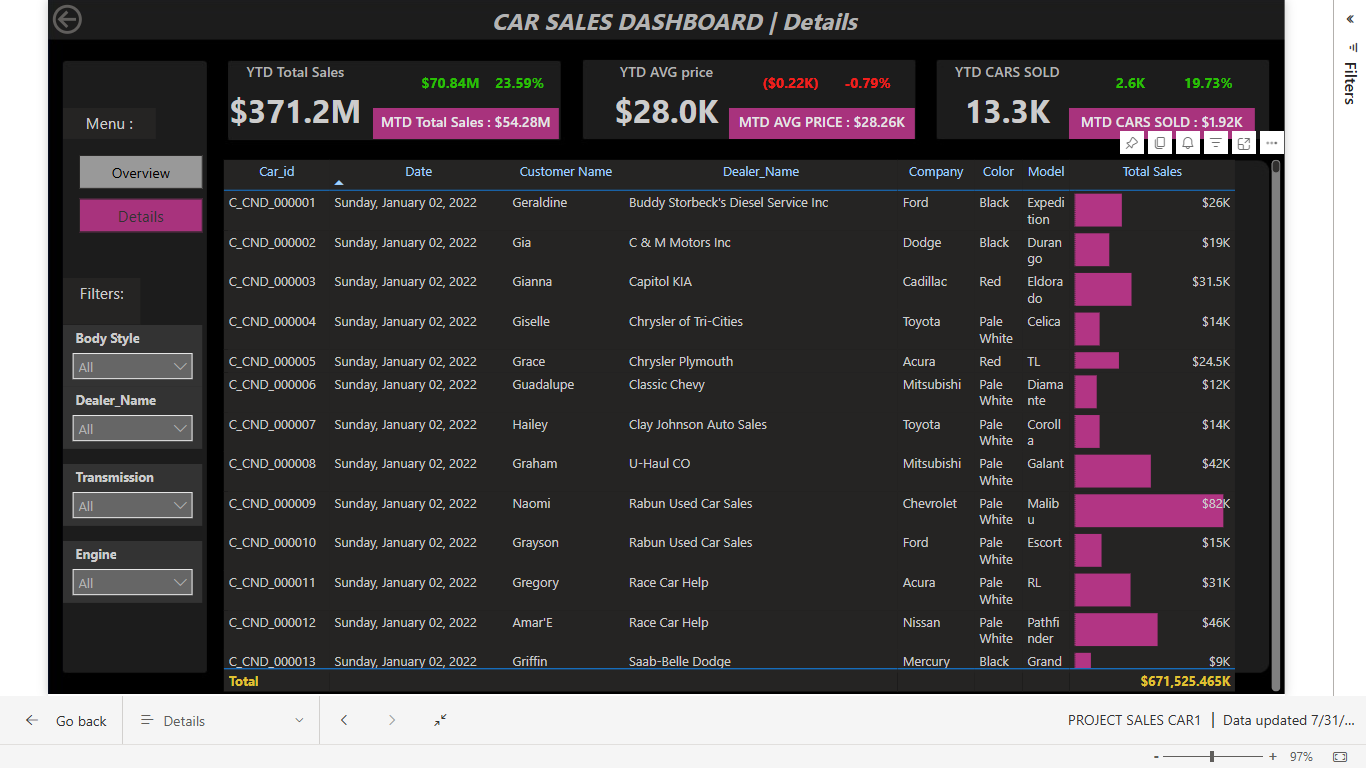

Layout of this report page (visuals, bound fields, positions):
{"tool":"powerbi","page":{"name":"Details","canvas":[1280,720],"ordinal":1},"visuals":[{"type":"card","title":"YTD Total Sales","fields":{"Values":["car_data.YTD TOTALSALES"]},"box":[176,64,160,80],"z":0},{"type":"card","fields":{"Values":["car_data.Sales Difference"]},"box":[368,64,96,48],"z":1000},{"type":"card","fields":{"Values":["car_data.YOY Sales Growth"]},"box":[448,64,80,48],"z":2000},{"type":"card","fields":{"Values":["car_data.MTD KPI"]},"box":[336,112,192,32],"z":3000},{"type":"card","title":"YTD AVG price","fields":{"Values":["car_data.YTD AVG price"]},"box":[560,64,160,80],"z":4000},{"type":"card","fields":{"Values":["car_data.AVG PRICE DIFF"]},"box":[720,64,96,48],"z":5000},{"type":"card","fields":{"Values":["car_data.YOY AVG PRICE GROWTH"]},"box":[800,64,96,48],"z":6000},{"type":"card","fields":{"Values":["car_data.MTD AVG PRICE KPI"]},"box":[704,112,192,32],"z":7000},{"type":"card","title":"YTD CARS SOLD","fields":{"Values":["car_data.YTD CARS SOLD"]},"box":[912,64,160,80],"z":8000},{"type":"card","fields":{"Values":["car_data.CARS SOLD DIFF"]},"box":[1072,64,96,48],"z":9000},{"type":"card","fields":{"Values":["car_data.YOY CAR SOLD GROWTH"]},"box":[1152,64,96,48],"z":10000},{"type":"card","fields":{"Values":["car_data.MTD CARS SOLD KPI"]},"box":[1056,112,192,32],"z":11000},{"type":"actionButton","box":[0,0,100,40],"z":17000},{"type":"textbox","box":[384,0,528,48],"z":18000},{"type":"slicer","fields":{"Values":["car_data.Body Style"]},"box":[16,336,144,64],"z":19000},{"type":"slicer","fields":{"Values":["car_data.Dealer_Name"]},"box":[16,400,144,64],"z":20000},{"type":"slicer","fields":{"Values":["car_data.Transmission"]},"box":[16,480,144,64],"z":21000},{"type":"slicer","fields":{"Values":["car_data.Engine"]},"box":[16,560,144,64],"z":22000},{"type":"textbox","box":[16,288,80,48],"z":23000},{"type":"tableEx","fields":{"Values":["car_data.Car_id","car_data.Date","car_data.Customer Name","car_data.Dealer_Name","car_data.Company","car_data.Color","car_data.Model","car_data.Price ($)"]},"box":[176,160,1104,560],"z":23001},{"type":"pageNavigator","box":[32,160,128,80],"z":23002},{"type":"textbox","box":[16,112,96,32],"z":23003}]}

Visuals, with their boxes on the page's 1280x720 design canvas (x1, y1, x2, y2). These are canvas units, not pixel positions in the 1366x768 screenshot, which may show the page scaled, cropped or inside an application window:
"YTD Total Sales" card: <box>176,64,336,144</box>
card - car_data.Sales Difference: <box>368,64,464,112</box>
card - car_data.YOY Sales Growth: <box>448,64,528,112</box>
card - car_data.MTD KPI: <box>336,112,528,144</box>
"YTD AVG price" card: <box>560,64,720,144</box>
card - car_data.AVG PRICE DIFF: <box>720,64,816,112</box>
card - car_data.YOY AVG PRICE GROWTH: <box>800,64,896,112</box>
card - car_data.MTD AVG PRICE KPI: <box>704,112,896,144</box>
"YTD CARS SOLD" card: <box>912,64,1072,144</box>
card - car_data.CARS SOLD DIFF: <box>1072,64,1168,112</box>
card - car_data.YOY CAR SOLD GROWTH: <box>1152,64,1248,112</box>
card - car_data.MTD CARS SOLD KPI: <box>1056,112,1248,144</box>
actionButton: <box>0,0,100,40</box>
textbox: <box>384,0,912,48</box>
slicer - car_data.Body Style: <box>16,336,160,400</box>
slicer - car_data.Dealer_Name: <box>16,400,160,464</box>
slicer - car_data.Transmission: <box>16,480,160,544</box>
slicer - car_data.Engine: <box>16,560,160,624</box>
textbox: <box>16,288,96,336</box>
tableEx - car_data.Car_id x car_data.Date: <box>176,160,1280,720</box>
pageNavigator: <box>32,160,160,240</box>
textbox: <box>16,112,112,144</box>
